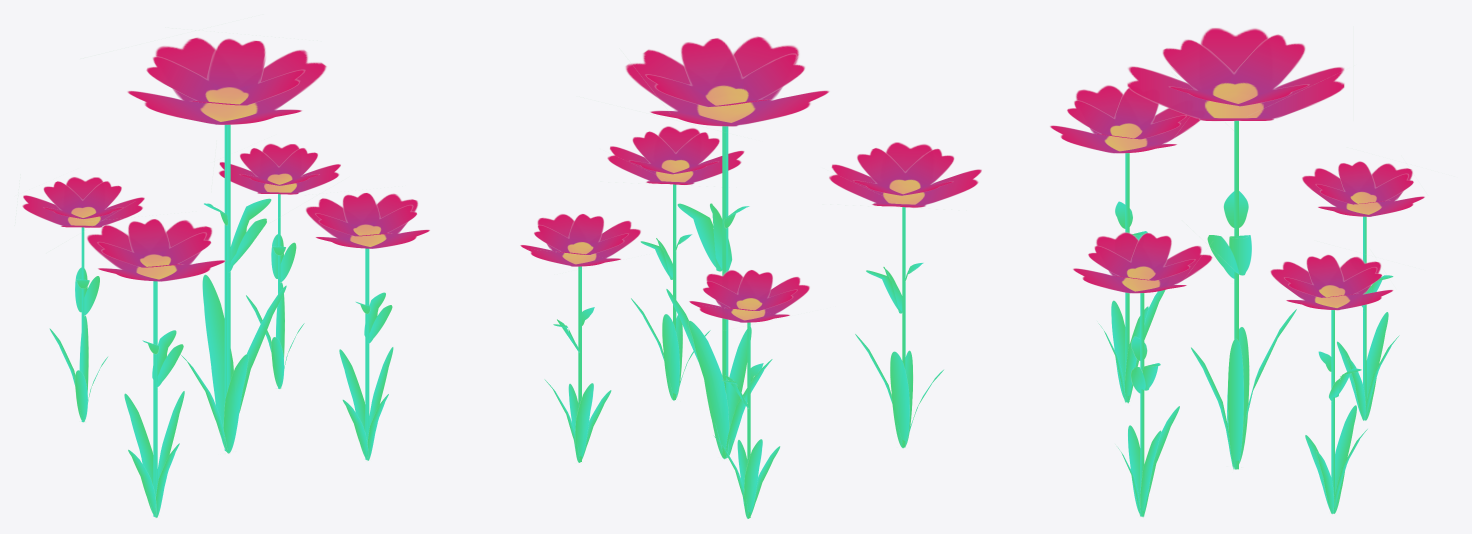
Rendered from Flower_n_04.glb.
The picture shows the model from 3 angles, left to right: view 1: azimuth 30°, elevation 25°; view 2: azimuth 150°, elevation 25°; view 3: azimuth 270°, elevation 25°; orthographic projection. The views are drawn at different scales.
Visible parts, largest first — view 1: polySurface277; view 2: polySurface277; view 3: polySurface277.
Part boxes in pixels (left/top/right/bottom): polySurface277: left=15, top=28, right=430, bottom=517; polySurface277: left=520, top=36, right=981, bottom=518; polySurface277: left=1049, top=27, right=1424, bottom=517.
Size of the model in its own units: 0.6847 by 0.6484 by 0.6373.
Materials: 1 (1 with a texture image).
